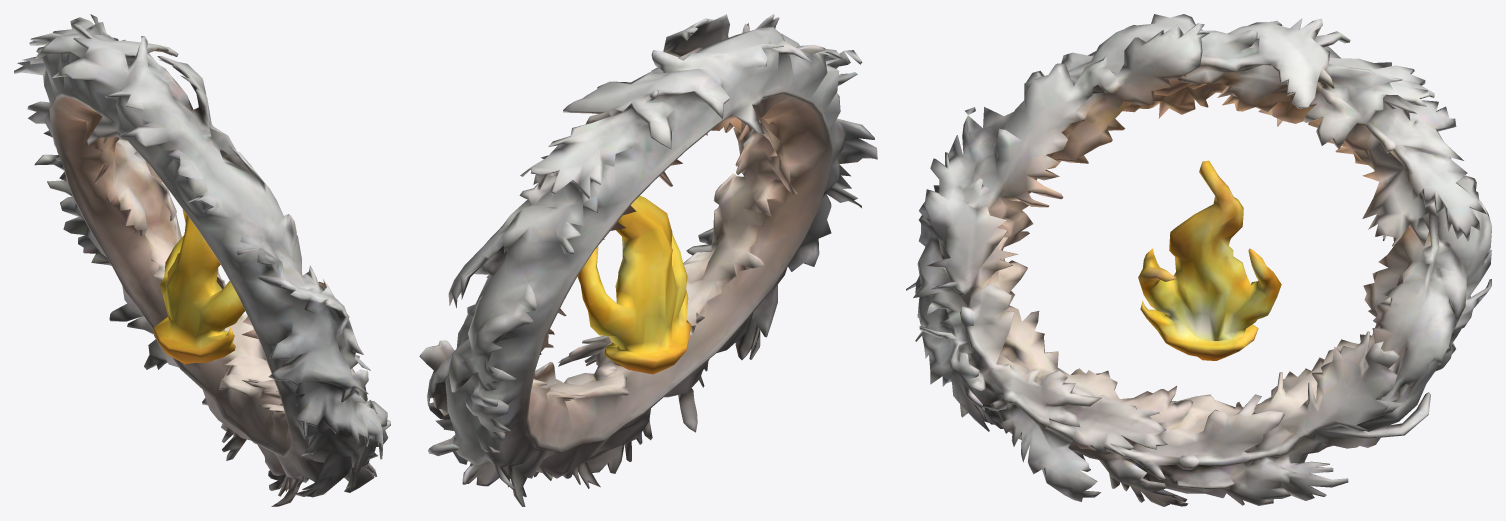
Rendered from p_wishmote.glb.
The picture shows the model from 3 angles, left to right: view 1: azimuth 30°, elevation 25°; view 2: azimuth 150°, elevation 25°; view 3: azimuth 270°, elevation 25°; orthographic projection. The views are drawn at different scales.
Visible parts, largest first — view 1: tripo_node_685d3b91-0cd2-4829-8f41-76215862209b; view 2: tripo_node_685d3b91-0cd2-4829-8f41-76215862209b; view 3: tripo_node_685d3b91-0cd2-4829-8f41-76215862209b.
Boxes of the visible parts, bbox=[...] form: tripo_node_685d3b91-0cd2-4829-8f41-76215862209b: bbox=[14, 14, 390, 506]; tripo_node_685d3b91-0cd2-4829-8f41-76215862209b: bbox=[419, 14, 877, 506]; tripo_node_685d3b91-0cd2-4829-8f41-76215862209b: bbox=[906, 14, 1491, 506].
Size of the model in its own units: 0.4423 by 0.8259 by 0.998.
Materials: 1 (1 with a texture image).
